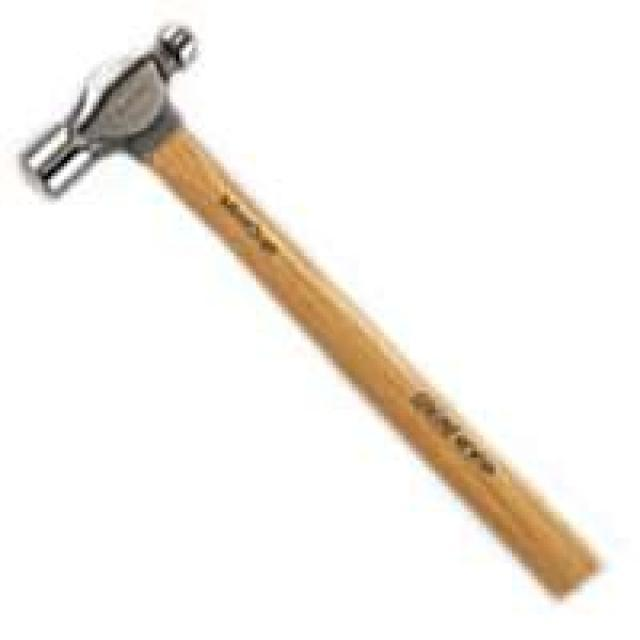hammer: (12, 16, 610, 609)
